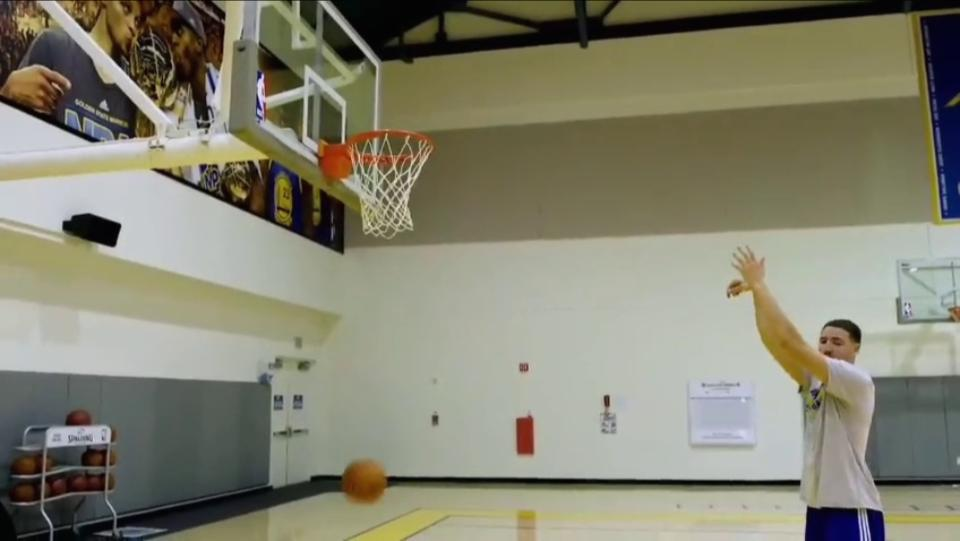hoop: (320, 126, 438, 170)
